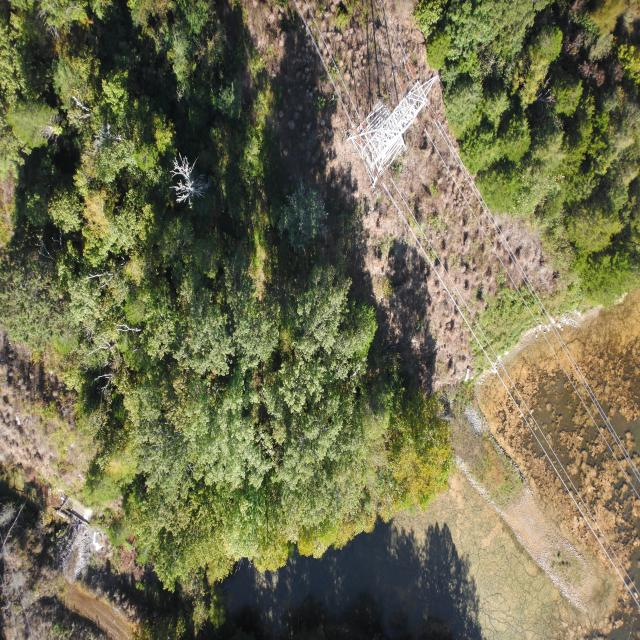Area of Interest: (3, 8, 426, 596), (424, 8, 638, 296)
